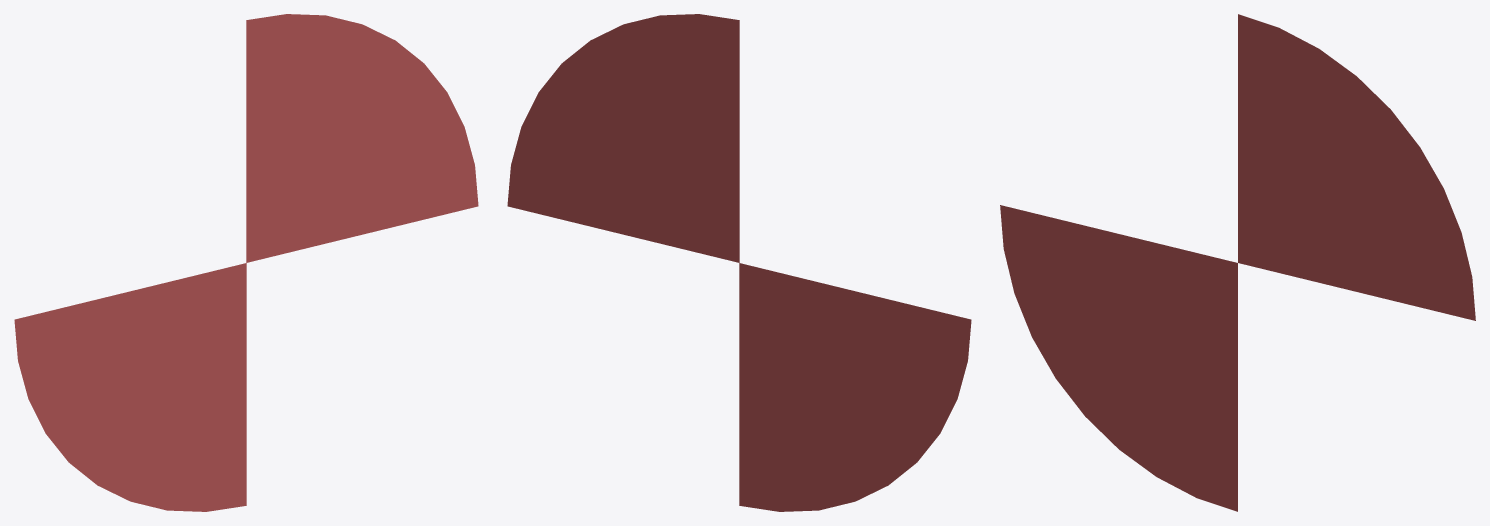
Rendered from bloodVessel - 2 triangle.fbx.
3 views of the same model, side by side, from view 1: azimuth 30°, elevation 25°; view 2: azimuth 150°, elevation 25°; view 3: azimuth 330°, elevation 25° (orthographic). The views are drawn at different scales.
Parts seen in each view (by area): view 1: Disc; view 2: Disc; view 3: Disc.
Part boxes in pixels (bbox=[...]): Disc: bbox=[14, 14, 478, 511]; Disc: bbox=[507, 14, 971, 511]; Disc: bbox=[1000, 14, 1475, 511].
Size of the model in its own units: 500 by 500 by 1.42e-13.
